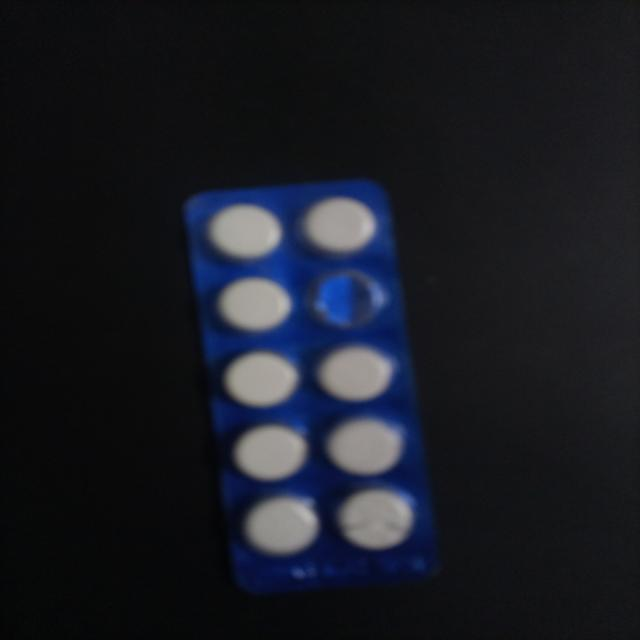defect: (330, 485, 422, 553), (304, 268, 396, 332)
